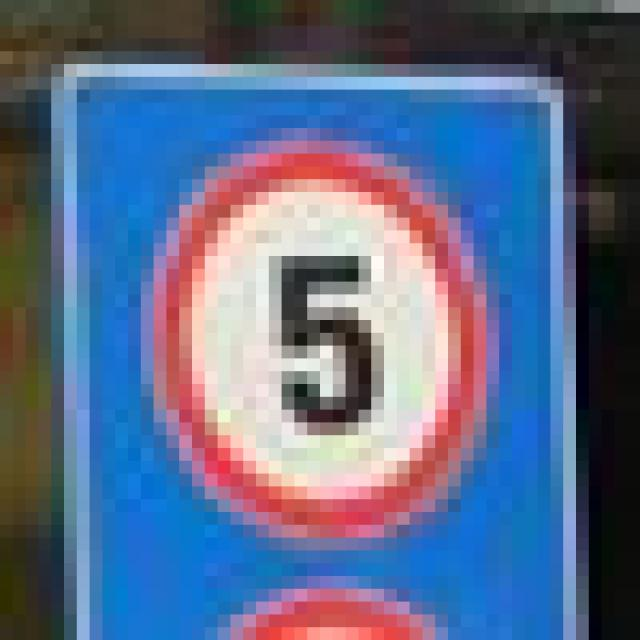speed_limit_20: (128, 115, 474, 525)
